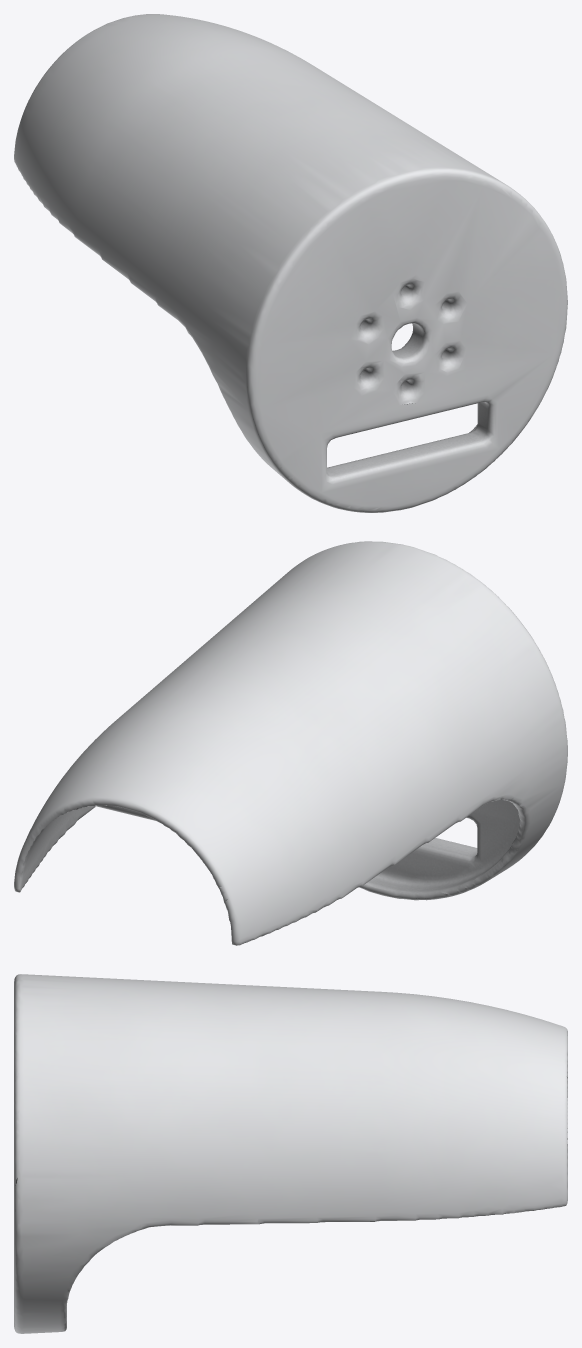
The model's file is right_forarm_lower_1.obj.
3 views of the same model, one above another, from view 1: azimuth 30°, elevation 25°; view 2: azimuth 150°, elevation 25°; view 3: azimuth 270°, elevation 25° (orthographic). The views are drawn at different scales.
Visible parts, largest first — view 1: right_forarm_lower_1; view 2: right_forarm_lower_1; view 3: right_forarm_lower_1.
Part boxes in pixels (box(x1,y1,x2,y2)): right_forarm_lower_1: box(14, 14, 567, 512); right_forarm_lower_1: box(14, 541, 567, 945); right_forarm_lower_1: box(14, 974, 567, 1333).
Size of the model in its own units: 0.0729 by 0.0729 by 0.1123.
1 material, 1 textured.
